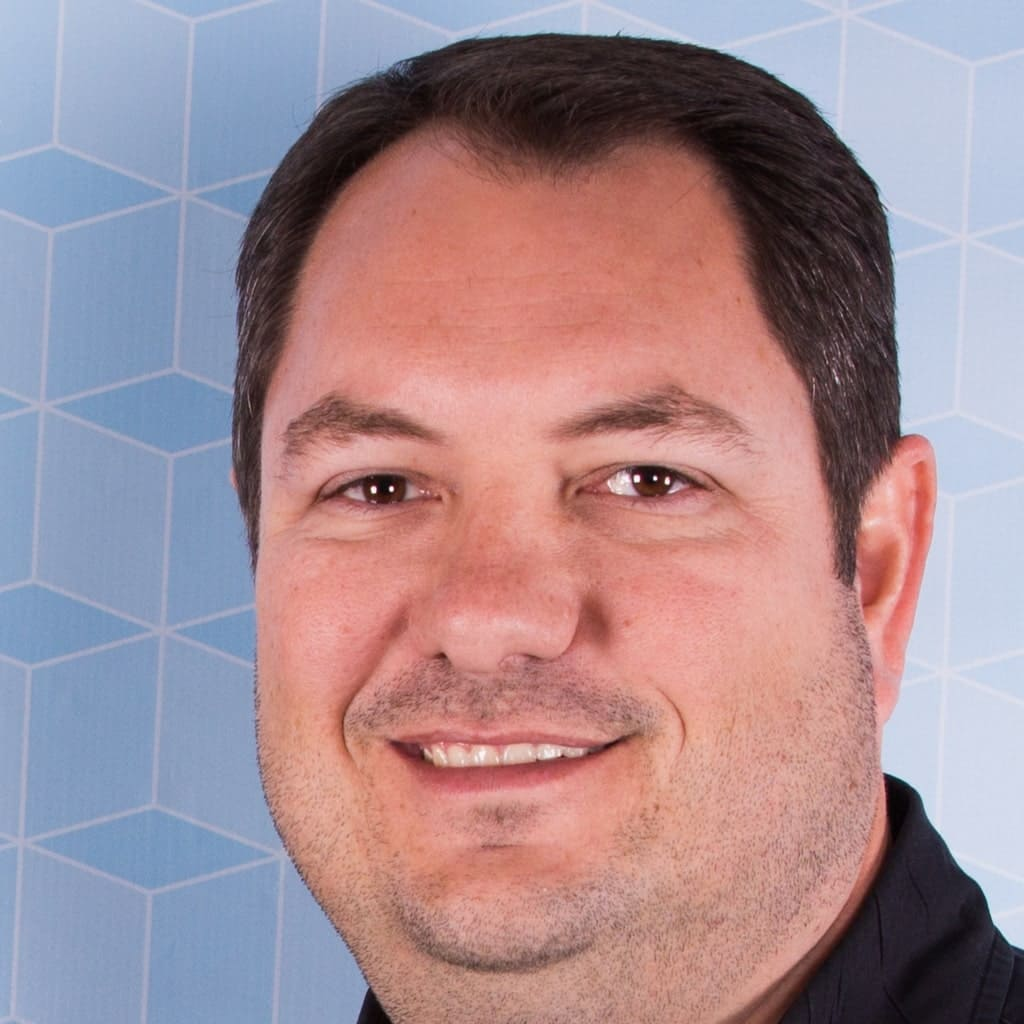without_mask: (259, 277, 816, 901)
